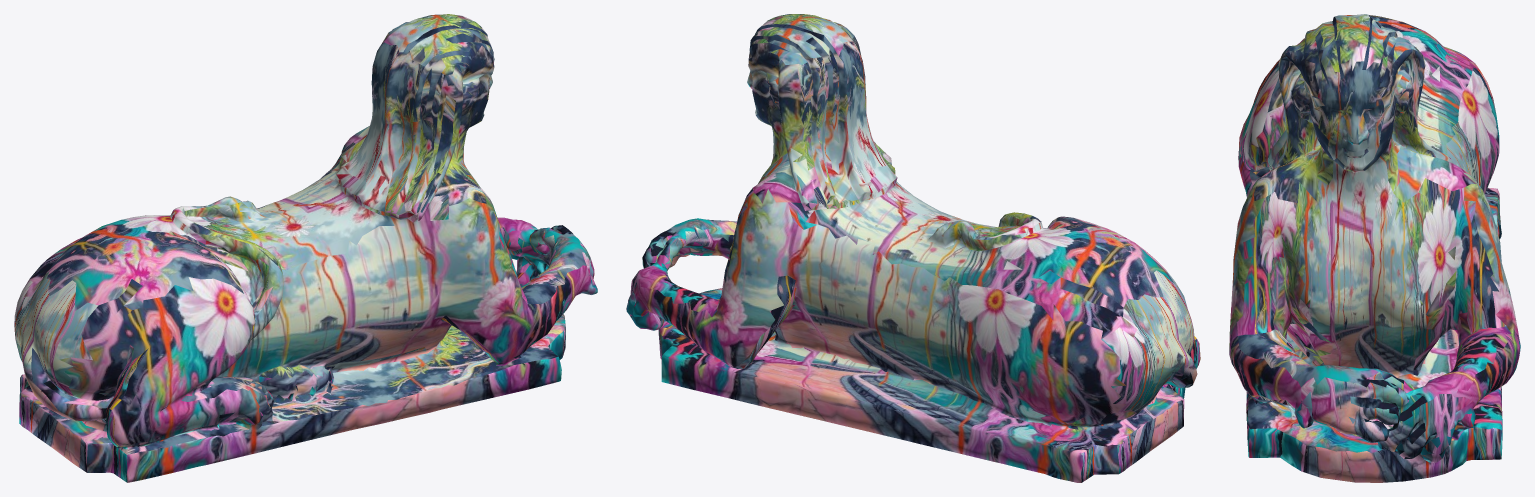
File: tds_sphinx-3.glb
3 views of the same model, side by side, from view 1: azimuth 30°, elevation 25°; view 2: azimuth 150°, elevation 25°; view 3: azimuth 270°, elevation 25° (orthographic). The views are drawn at different scales.
Visible parts, largest first — view 1: A; view 2: A; view 3: A.
Part boxes in pixels (box(x1,y1,x2,y2)): A: box(14, 14, 597, 482); A: box(626, 14, 1200, 482); A: box(1229, 14, 1520, 482).
Bounding box in the file's own units: 2 × 1.18 × 0.8006.
1 material, 1 textured.
